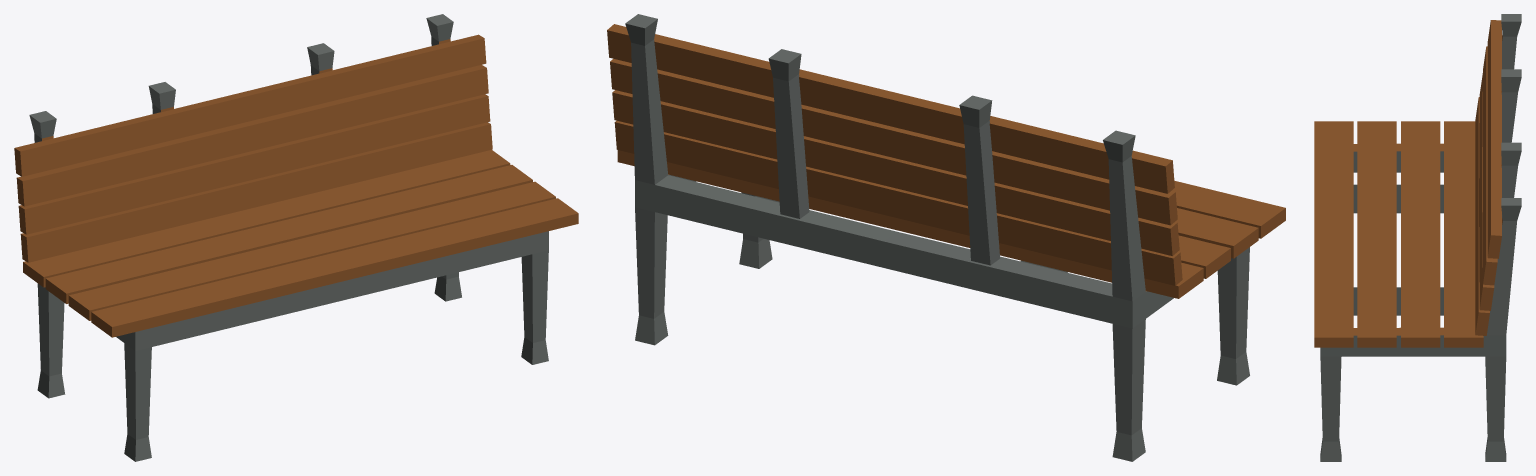
File: penkki.fbx
3 renders of one model, left to right at view 1: azimuth 30°, elevation 25°; view 2: azimuth 150°, elevation 25°; view 3: azimuth 270°, elevation 25°, orthographic. The views are drawn at different scales.
Visible parts, largest first — view 1: Cube.001; view 2: Cube.001; view 3: Cube.001.
Boxes of the visible parts, x1,y1,x2,y2 form: Cube.001: [14, 14, 578, 461]; Cube.001: [607, 14, 1285, 461]; Cube.001: [1314, 14, 1521, 461].
Bounding box in the file's own units: 300 × 166 × 122.
